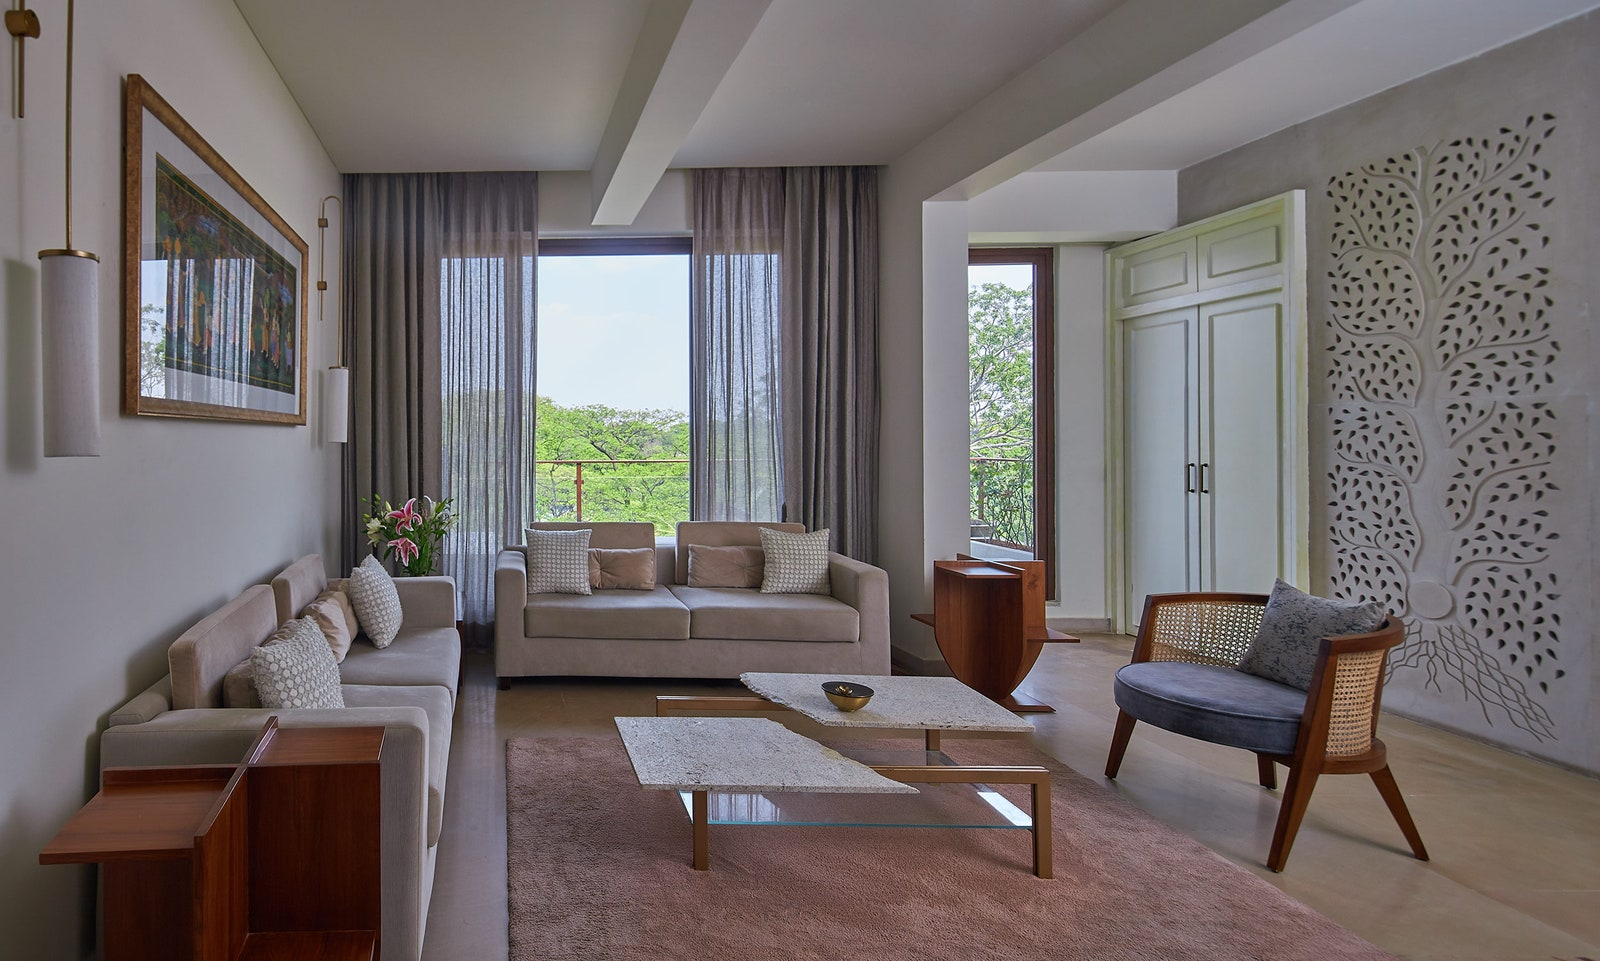chair: (1099, 568, 1435, 879)
flower vase: (362, 484, 462, 577)
sofa: (97, 545, 466, 961), (486, 518, 897, 680)
table: (610, 668, 1057, 882)
wall art: (118, 65, 312, 429)
